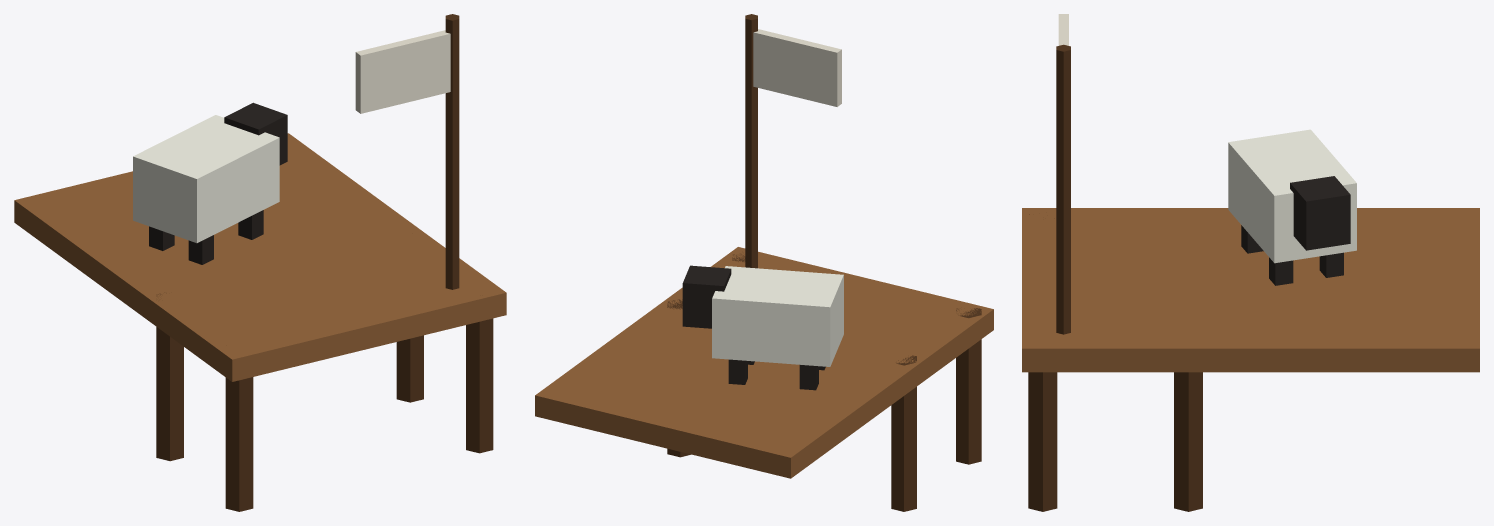
File: sheep.obj
3 renders of one model, left to right at view 1: azimuth 30°, elevation 25°; view 2: azimuth 150°, elevation 25°; view 3: azimuth 270°, elevation 25°, orthographic. The views are drawn at different scales.
Visible parts, largest first — view 1: sheep; view 2: sheep; view 3: sheep.
Boxes of the visible parts, x1,y1,x2,y2 form: sheep: (14, 14, 506, 511); sheep: (535, 14, 993, 511); sheep: (1022, 14, 1479, 511).
Bounding box in the file's own units: 0.32 × 0.475 × 0.44.
